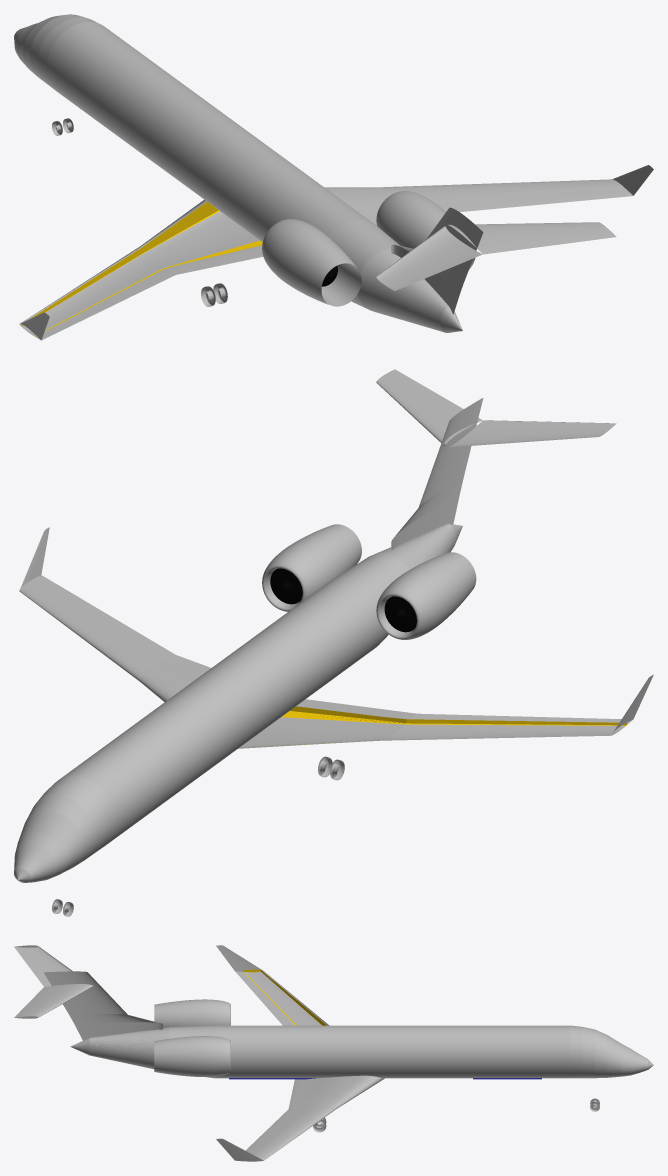
Rendered from CRJ_700.gltf.
3 renders of one model, top to bottom at view 1: azimuth 30°, elevation 25°; view 2: azimuth 150°, elevation 25°; view 3: azimuth 270°, elevation 25°, orthographic. The views are drawn at different scales.
Parts seen in each view (by area): view 1: Renderer Node; view 2: Renderer Node; view 3: Renderer Node.
Boxes of the visible parts, x1=… form: Renderer Node: x1=14, y1=14, x2=653, y2=340; Renderer Node: x1=14, y1=369, x2=653, y2=916; Renderer Node: x1=14, y1=945, x2=653, y2=1161.
Bounding box in the file's own units: 23.25 × 7.79 × 32.53.
